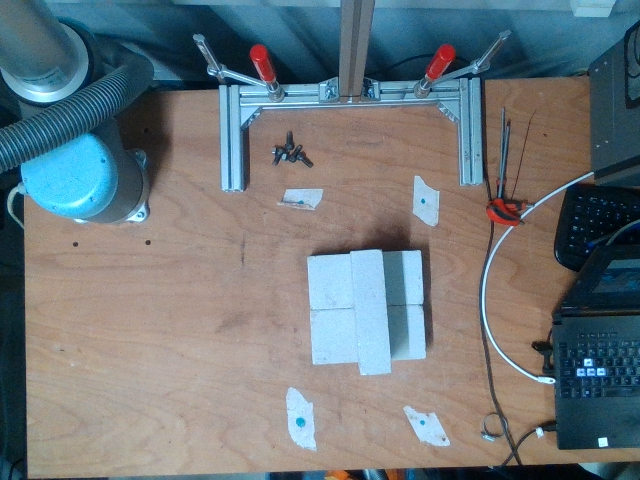brick-side: (350, 250, 393, 373)
